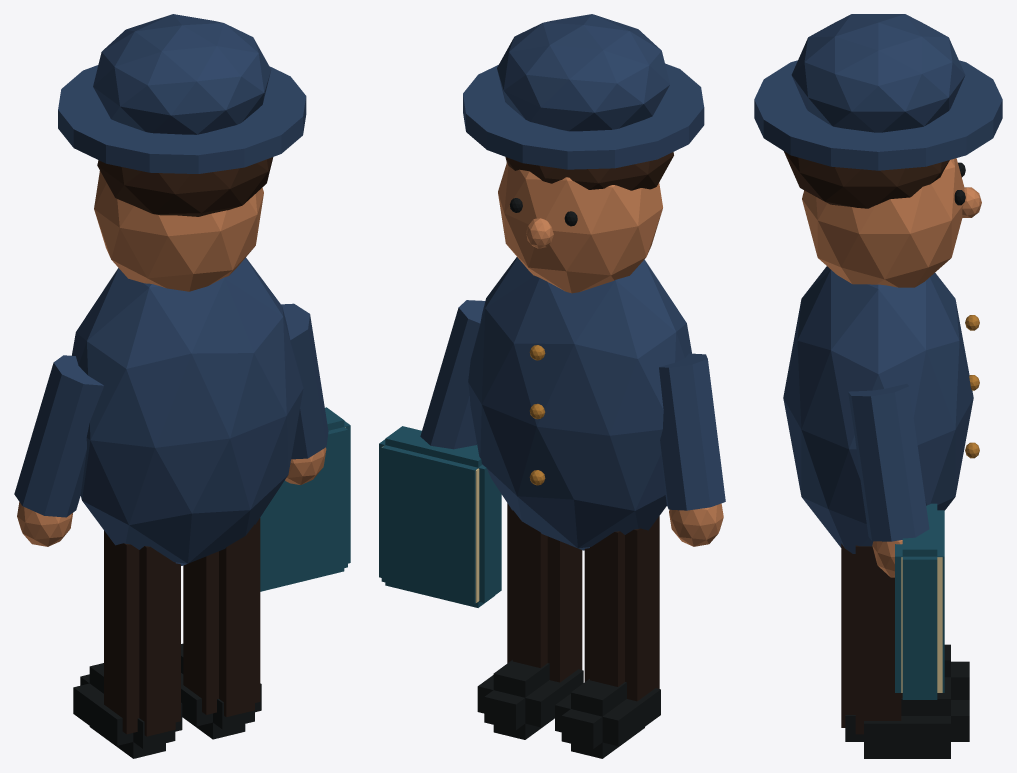
The model's file is folk_3.glb.
3 views of the same model, side by side, from view 1: azimuth 30°, elevation 25°; view 2: azimuth 150°, elevation 25°; view 3: azimuth 270°, elevation 25° (orthographic). The views are drawn at different scales.
Parts seen in each view (by area): view 1: Neighbour.003Mesh; view 2: Neighbour.003Mesh; view 3: Neighbour.003Mesh.
Part boxes in pixels (x1,y1,x2,y2): Neighbour.003Mesh: (14,14,350,758); Neighbour.003Mesh: (379,14,725,758); Neighbour.003Mesh: (754,14,1002,758).
Bounding box in the file's own units: 0.9234 × 1.89 × 0.6.
